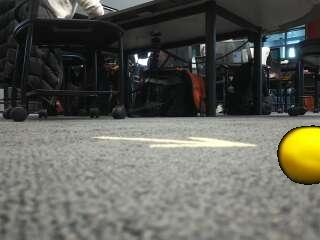lemon: (279, 128, 320, 185)
